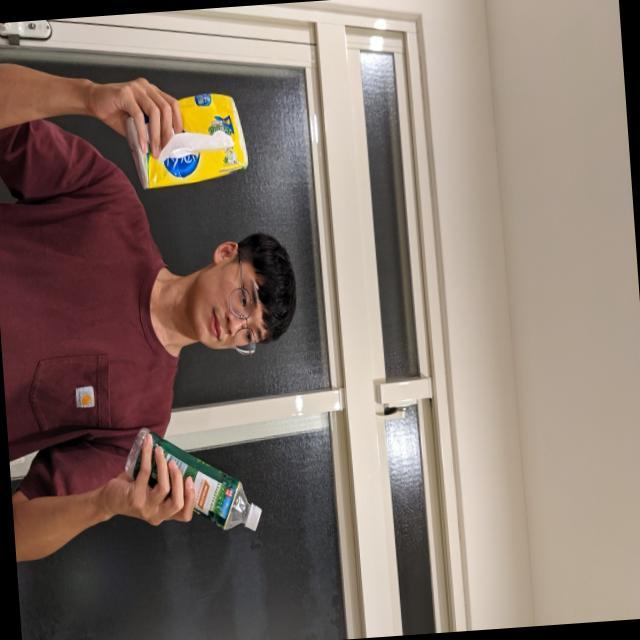good: (128, 429, 266, 537)
